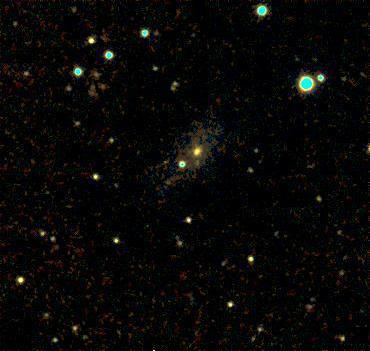star: (182, 147, 212, 177)
